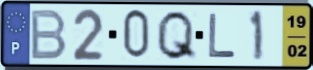0: (121, 7, 154, 63)
1: (246, 9, 266, 63)
2: (72, 6, 106, 63)
B: (28, 8, 69, 62)
L: (207, 12, 239, 60)
Q: (154, 9, 199, 62)
